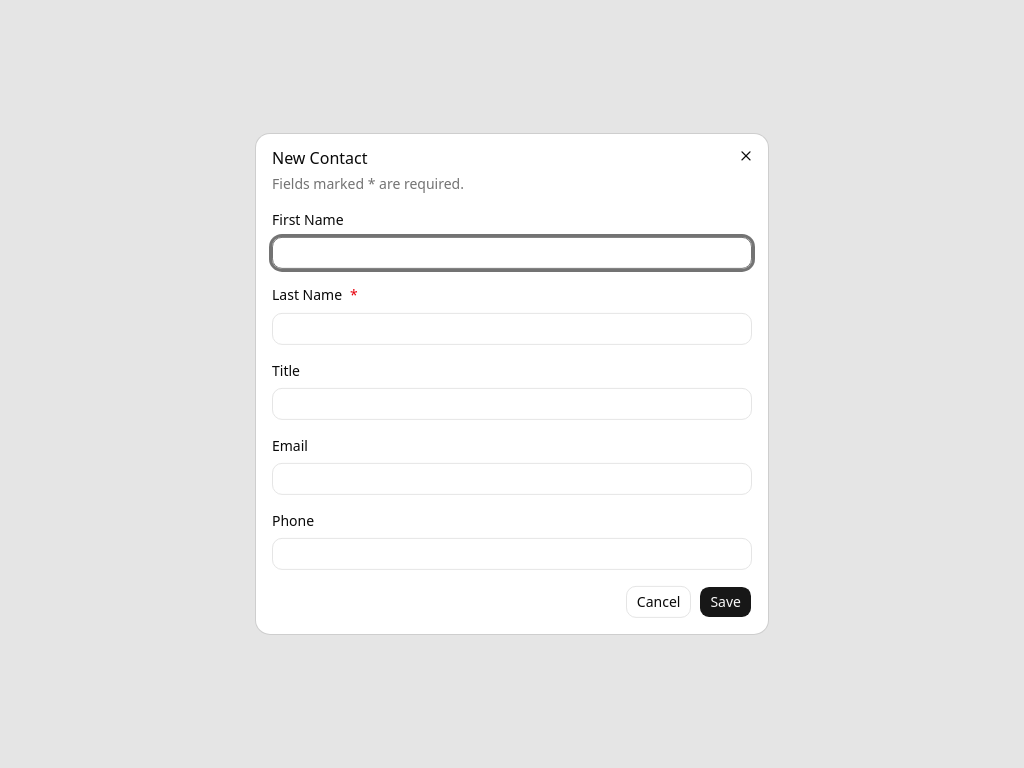
Test case: ContactForm › shows errors without a field in the banner and keeps what was typed
In the field labelled "Last Name *": (512, 328) [272,312,752,344], type "Doe"
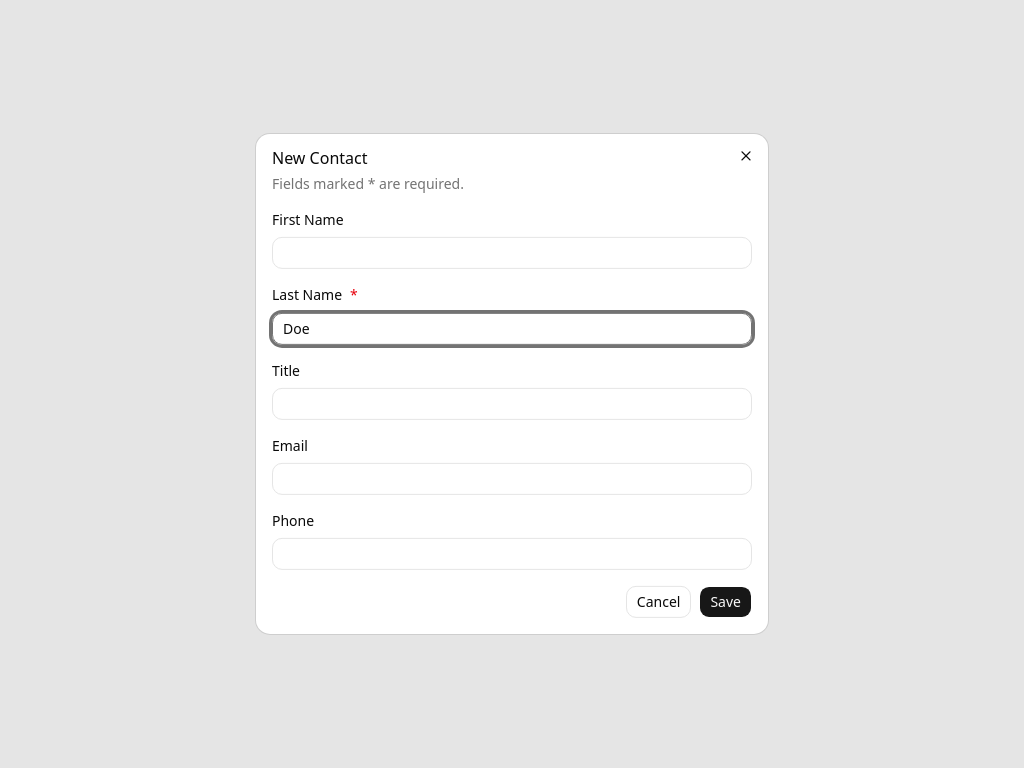
In the field labelled "Email": (512, 479) [272,463,752,495], type "not-an-email"
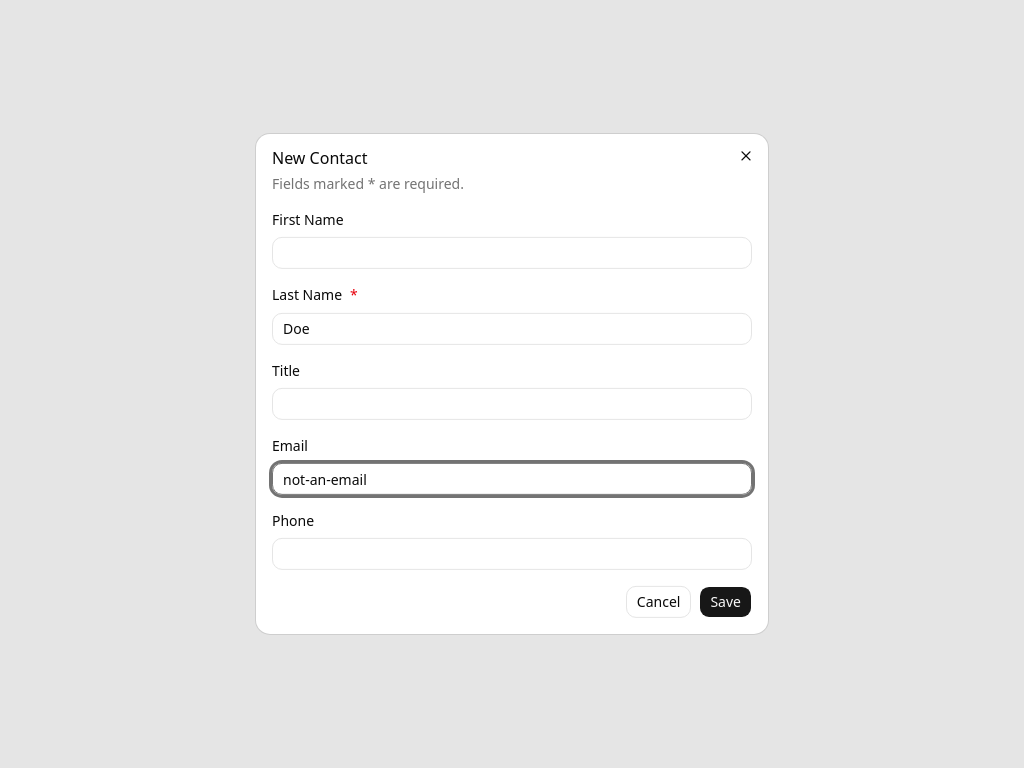
Click the button "Save": (726, 602) [699,586,752,618]
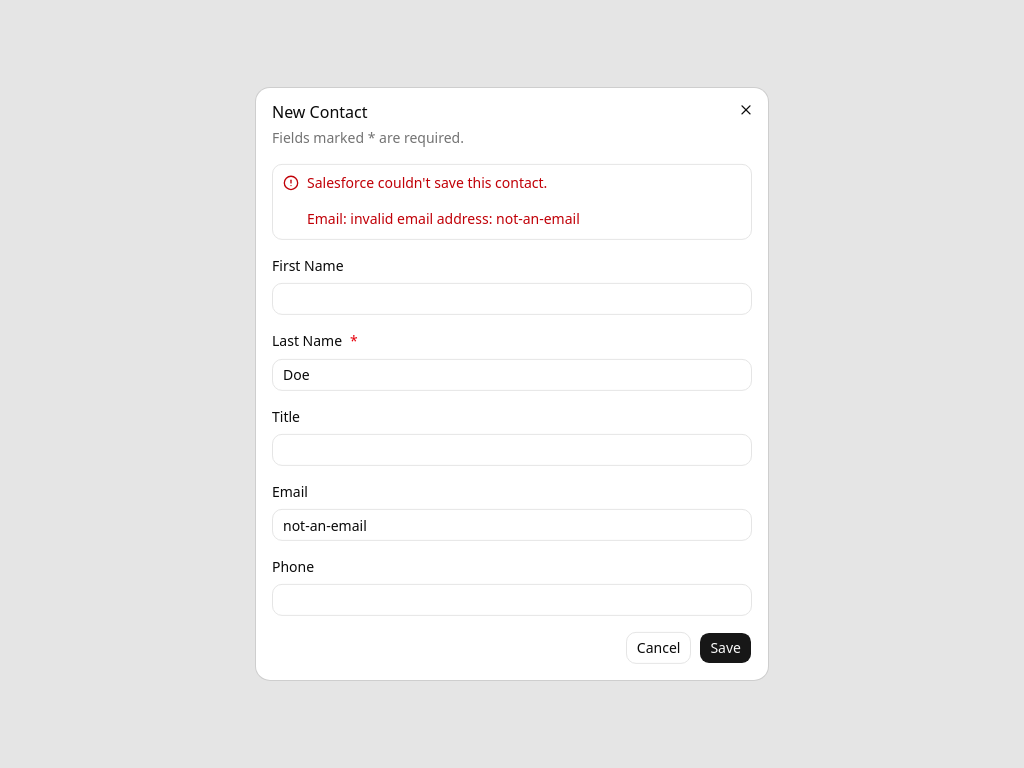
Expected: the button "Save" is enabled, [699,632,752,664]
Expected: the text "Email: invalid email address: not-an-email" is shown, [307,209,580,228]
Expected: the text "Salesforce couldn't save this contact." is shown, [307,173,547,192]
